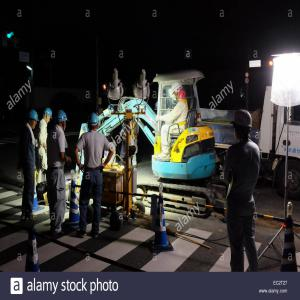blue: (25, 109, 39, 130), (55, 110, 69, 131), (88, 113, 101, 131), (43, 107, 53, 124)
white: (232, 110, 254, 140), (173, 82, 184, 100)
